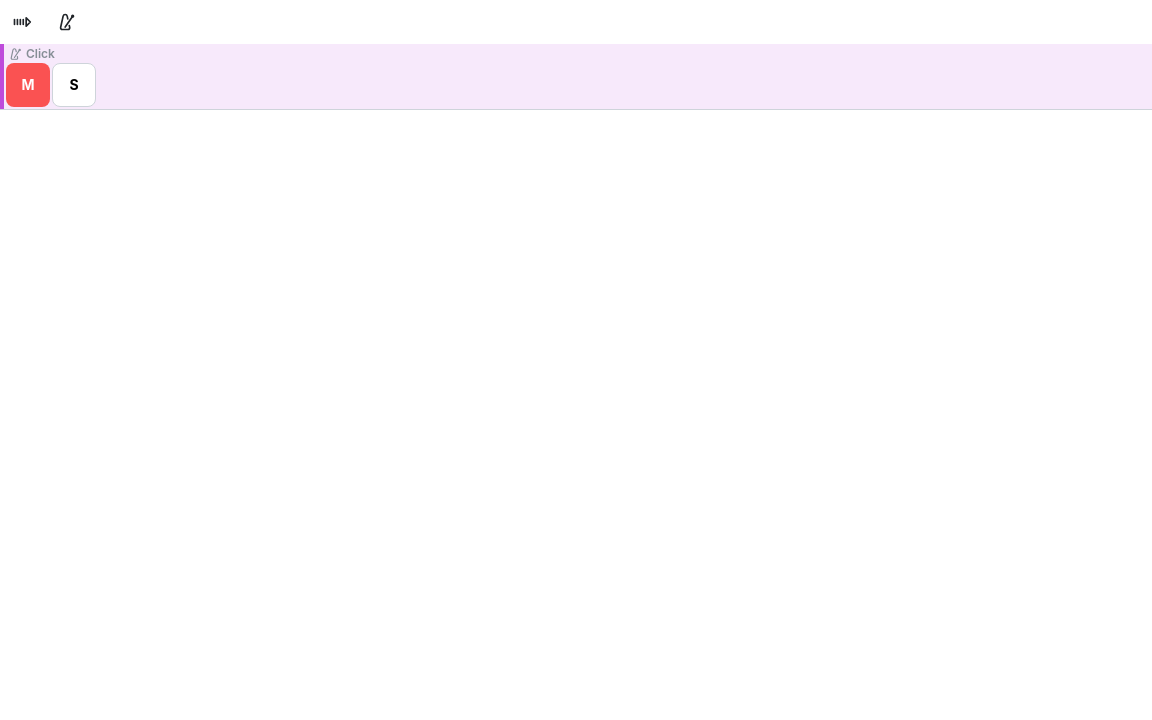
Test: ClickStrip (SPEC §11.3, DECISIONS 2026-10-07) › phones: the header opens the click settings full screen with the volume
Click the button with test id "click-strip-settings": (15, 54) [4,44,1151,109]
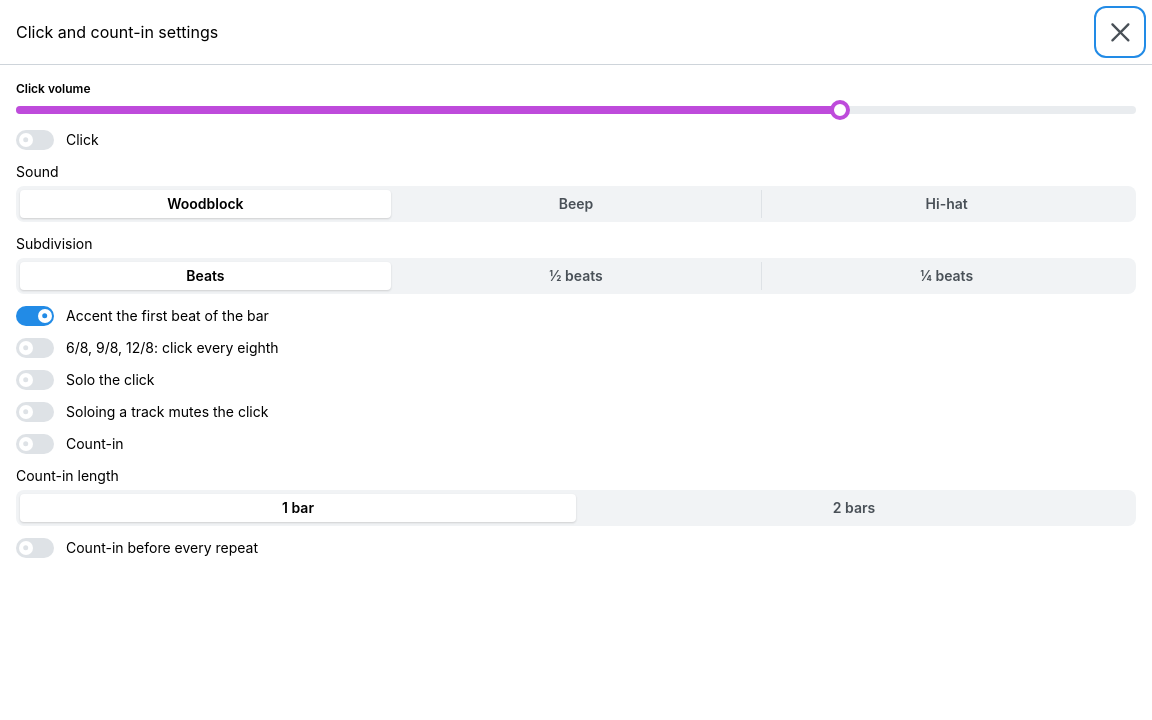
Expected: the element with test id "click-settings" is shown, [16,130,1136,558]
Expected: the number of sliders named "Click volume" is 1, [830,100,850,120]
Expected: the text "Click volume" is shown once, [16,81,90,96]
